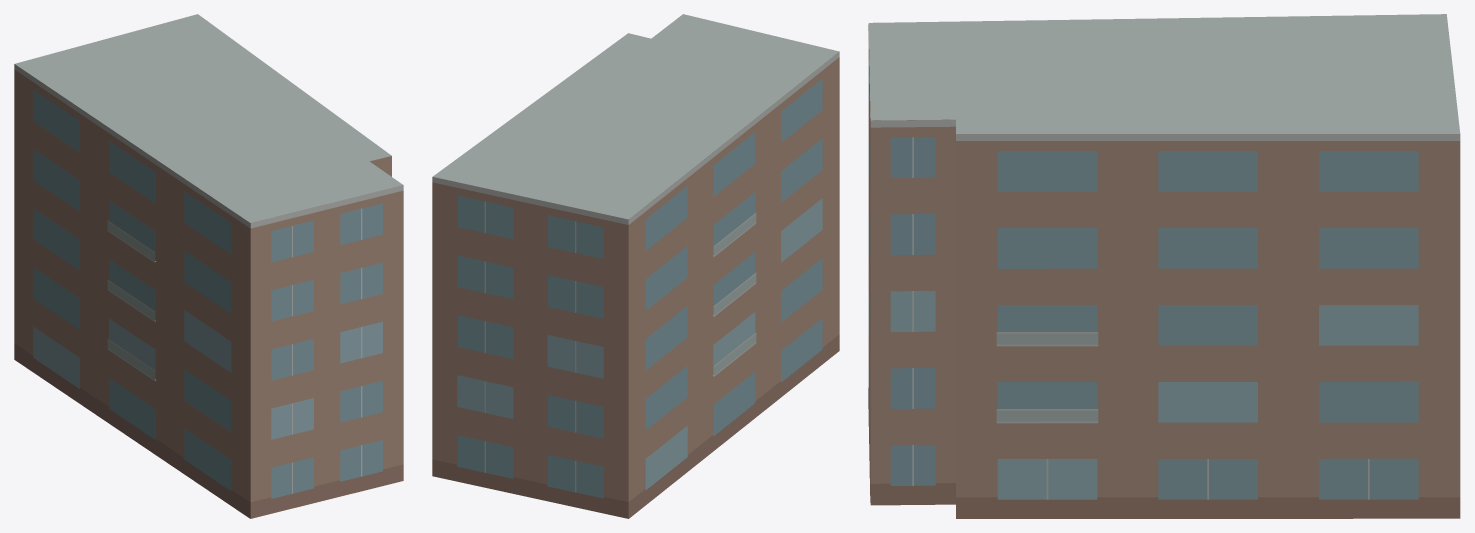
The model's file is survey-upis-32761431.glb.
3 views of the same model, side by side, from view 1: azimuth 30°, elevation 25°; view 2: azimuth 150°, elevation 25°; view 3: azimuth 270°, elevation 25° (orthographic). The views are drawn at different scales.
Parts seen in each view (by area): view 1: survey-upis-32761431.tmp; view 2: survey-upis-32761431.tmp; view 3: survey-upis-32761431.tmp.
Boxes of the visible parts, x1,y1,x2,y2 form: survey-upis-32761431.tmp: (14, 14, 403, 518); survey-upis-32761431.tmp: (432, 14, 839, 518); survey-upis-32761431.tmp: (868, 14, 1460, 518).
Size of the model in its own units: 8.87 by 13.2 by 18.4.
